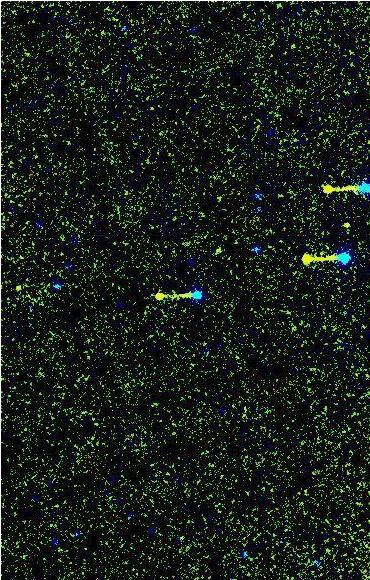star: (330, 210, 360, 240)
